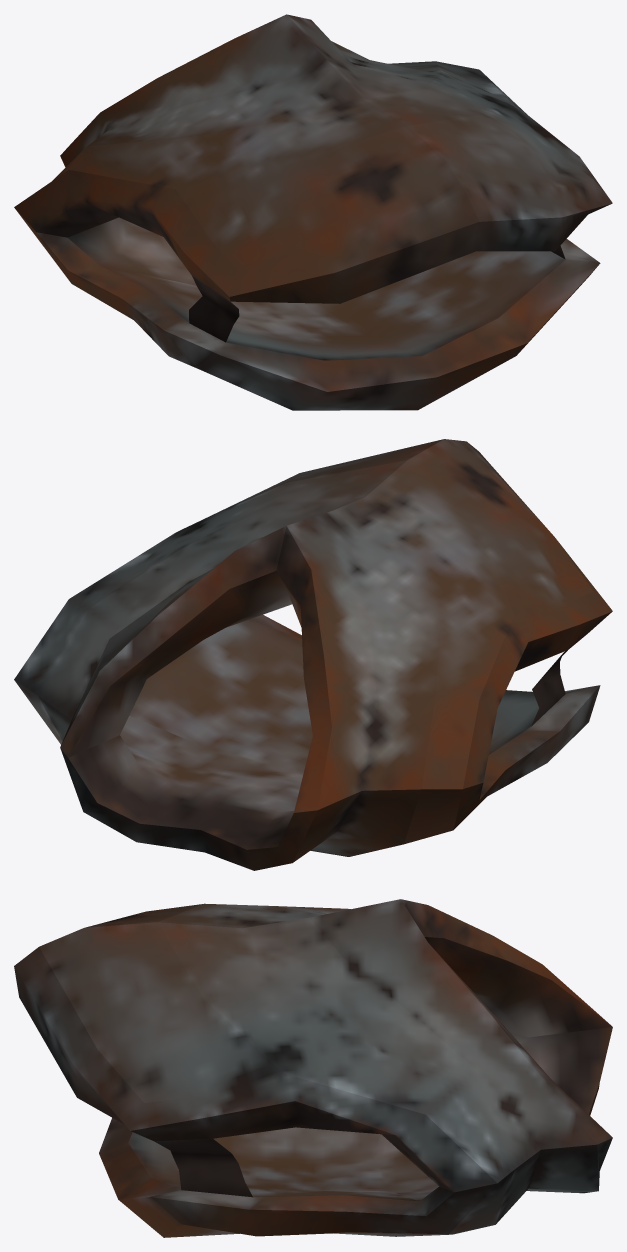
File: RustedArmor_piece_cuirass.fbx
The picture shows the model from 3 angles, top to bottom: view 1: azimuth 30°, elevation 25°; view 2: azimuth 150°, elevation 25°; view 3: azimuth 270°, elevation 25°; orthographic projection.
Parts seen in each view (by area): view 1: armor_cuirass; view 2: armor_cuirass; view 3: armor_cuirass.
Boxes of the visible parts, <box> form: armor_cuirass: <box>14,14,612,410</box>; armor_cuirass: <box>14,439,612,870</box>; armor_cuirass: <box>14,899,612,1237</box>.
Bounding box in the file's own units: 36.69 × 24.27 × 42.21.
